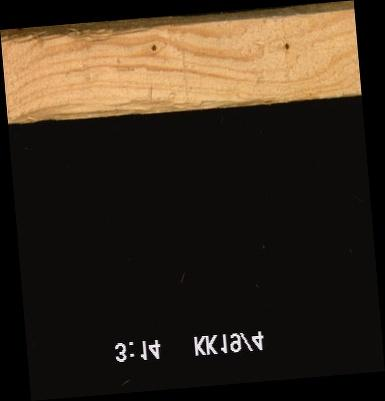small_knot: (149, 43, 157, 53), (282, 41, 290, 51)
